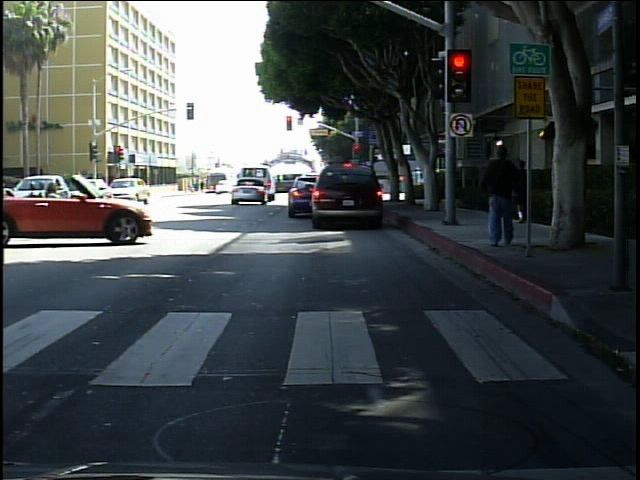person: (477, 131, 528, 253), (511, 148, 536, 231)
